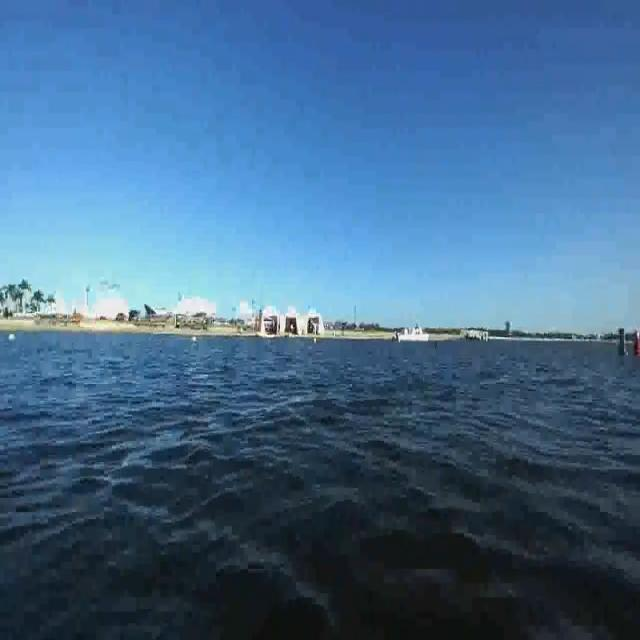green-column-buoy: (616, 326, 626, 358)
red-column-buoy: (631, 329, 640, 359)
